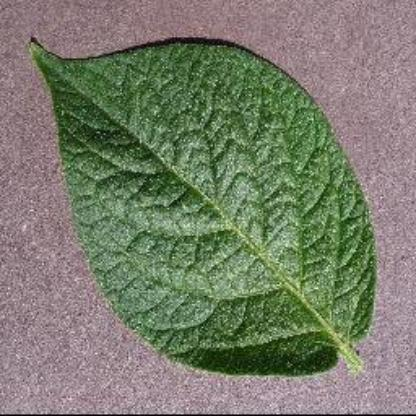Healthy-plant: (27, 36, 388, 378)
